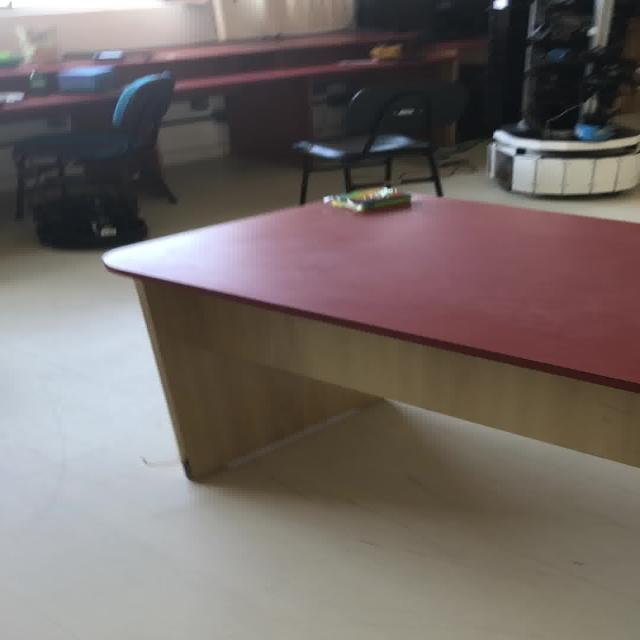sponge: (321, 185, 410, 212), (367, 42, 402, 58)
